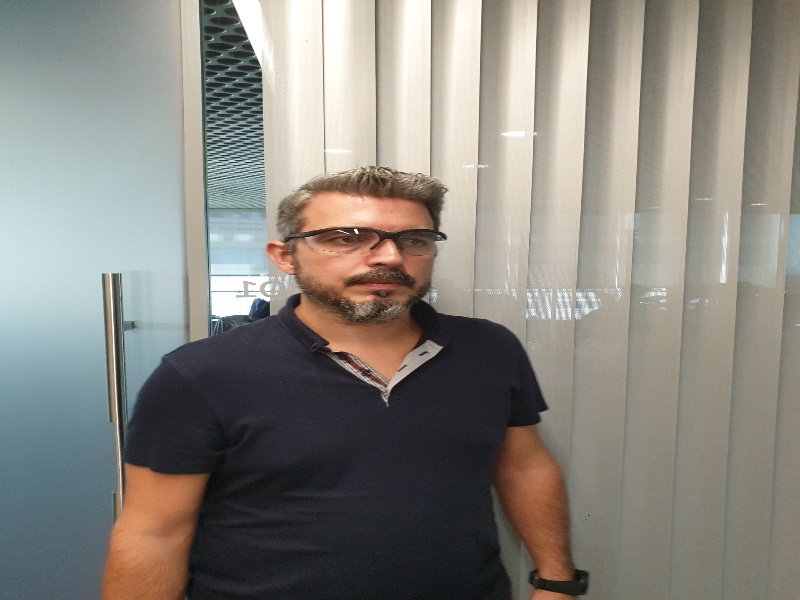Gozluk: (284, 226, 448, 255)
